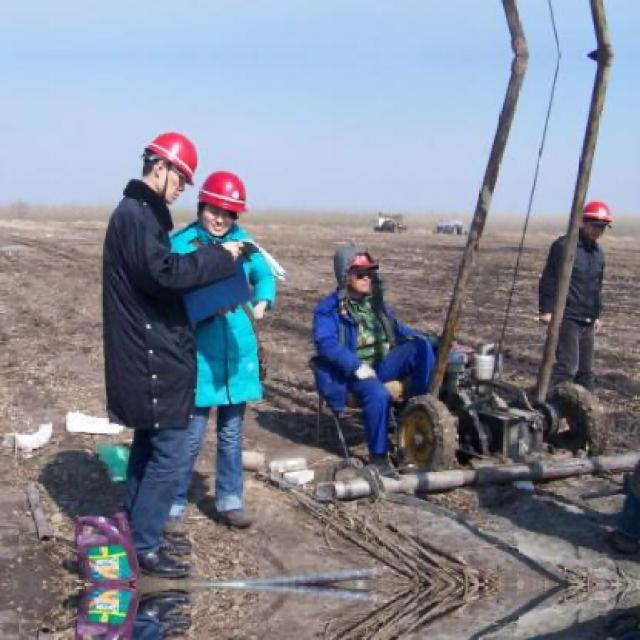2: (96, 128, 202, 572), (163, 173, 285, 529), (296, 246, 444, 474), (538, 199, 614, 429)
helmet: (137, 123, 205, 207), (197, 165, 249, 238), (335, 245, 380, 296), (582, 198, 616, 242)
